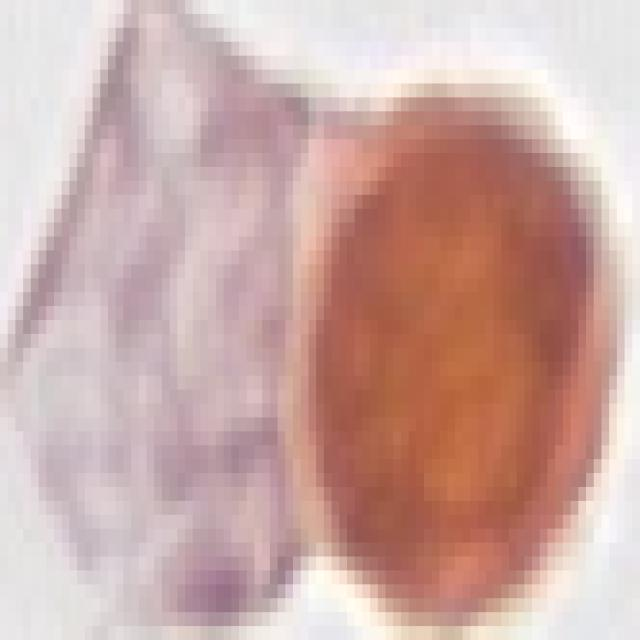cytoplasm: (268, 81, 632, 626)
nucleus: (268, 99, 627, 591)
